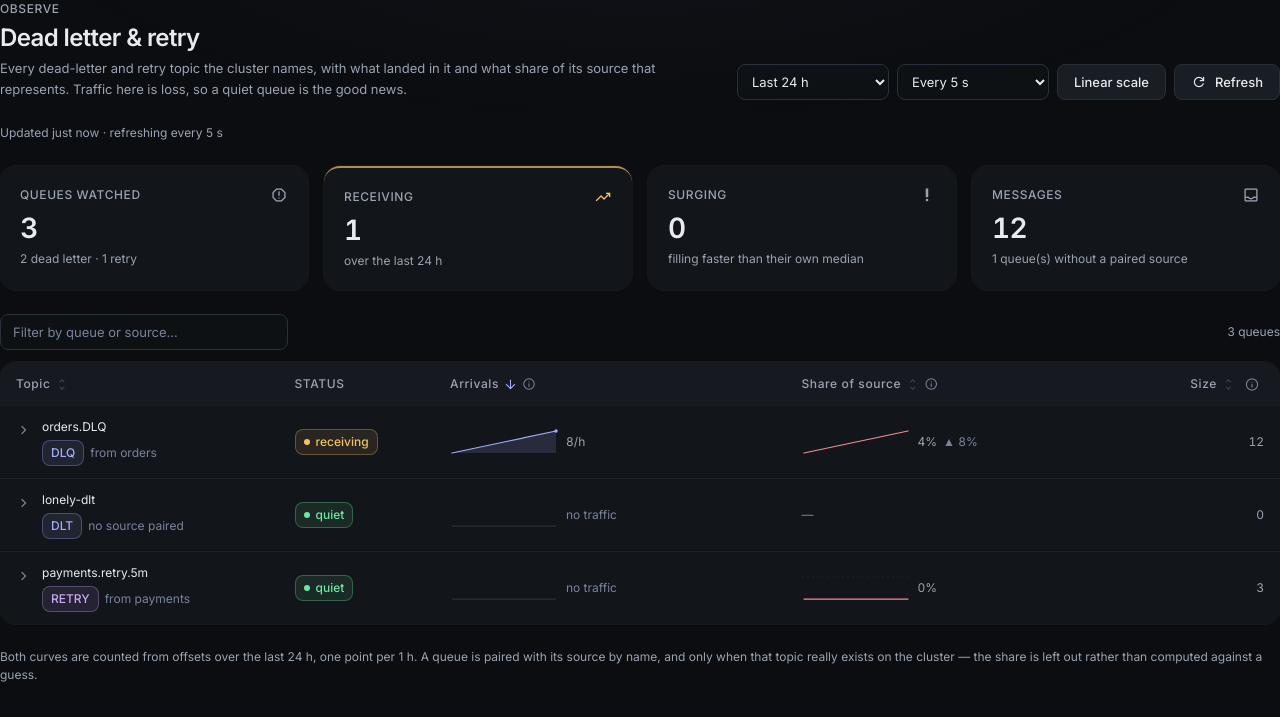
DeadLetter › offers the alert only where a source can divide the rate
Expected: the text "receiving" is shown, [294,429,378,455]
Click the button named "Show what is arriving in orders.DLQ" at (24, 430), box [12,418,36,442]
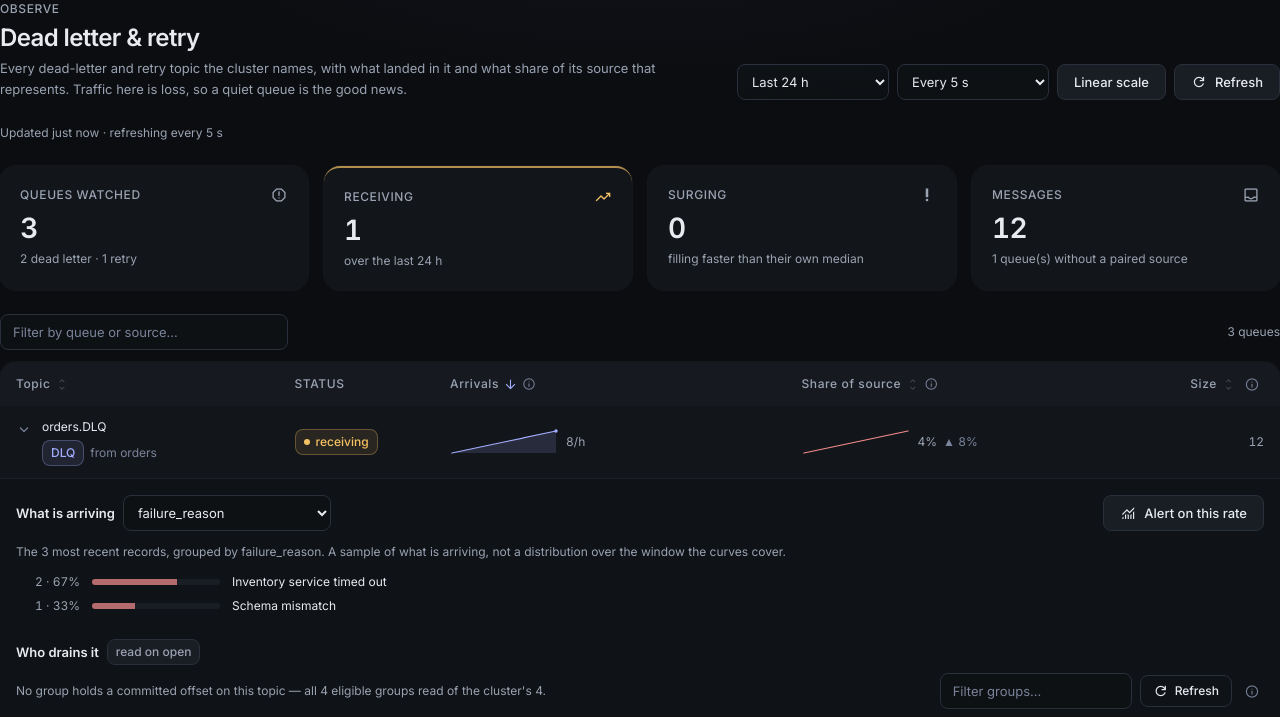
Now the button "Alert on this rate" is enabled, box [1103,495,1264,531]
Click the button named "Hide what is arriving in orders.DLQ" at (24, 430), box [12,418,36,442]
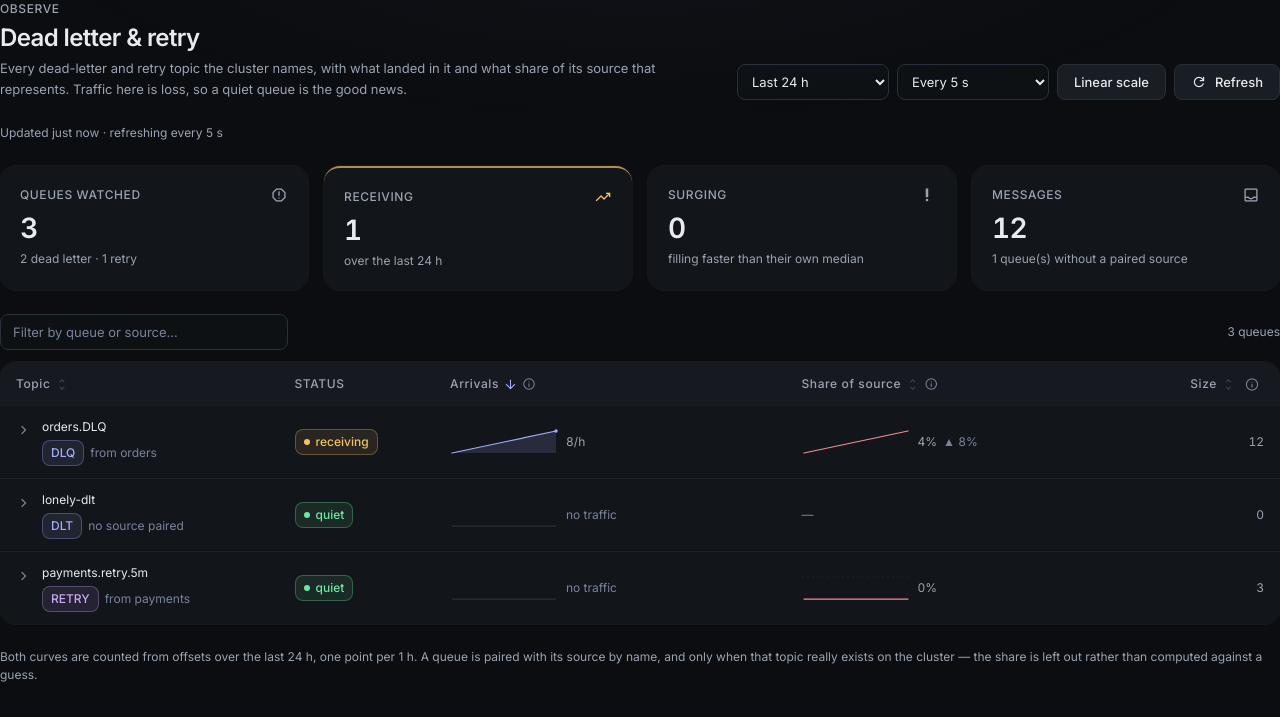
Click the button named "Show what is arriving in lonely-dlt" at (24, 503), box [12,491,36,515]
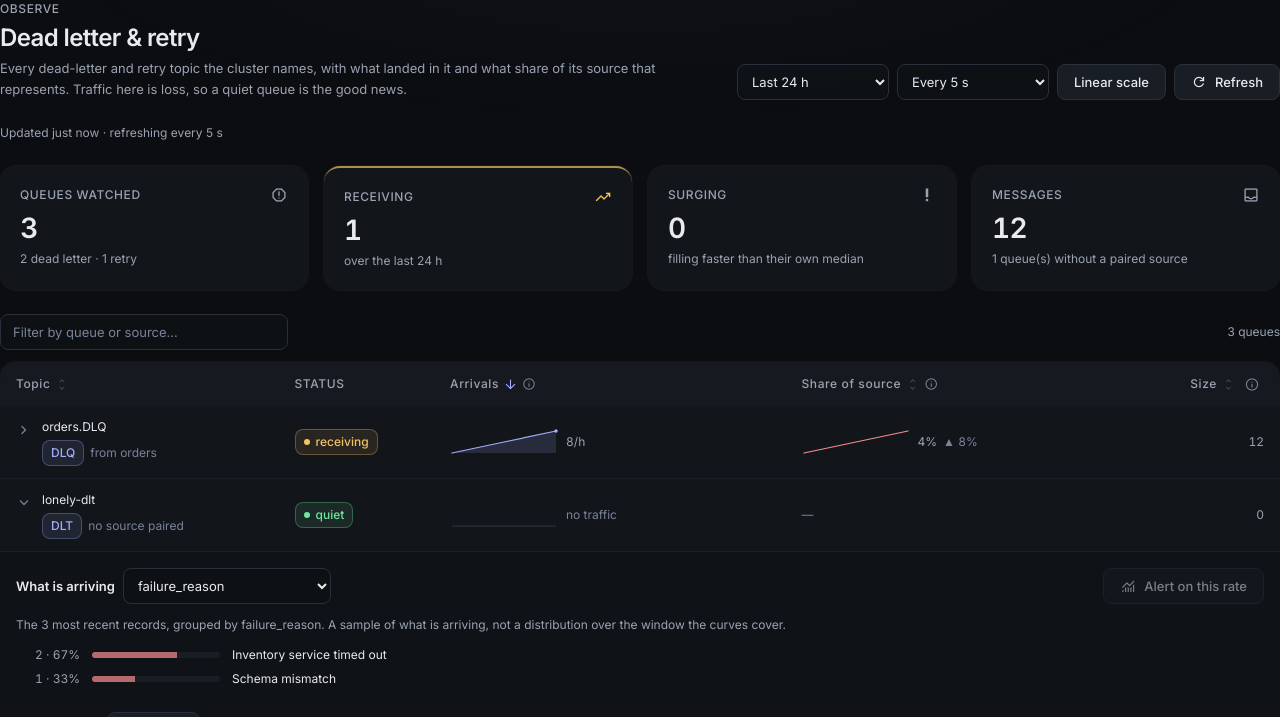
Now the button "Alert on this rate" is disabled, box [1103,568,1264,604]
